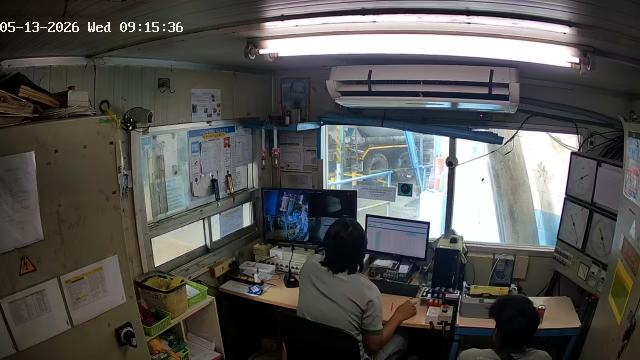Head: (489, 295, 539, 347), (323, 219, 367, 266)
People: (297, 218, 416, 359), (459, 295, 551, 359)
